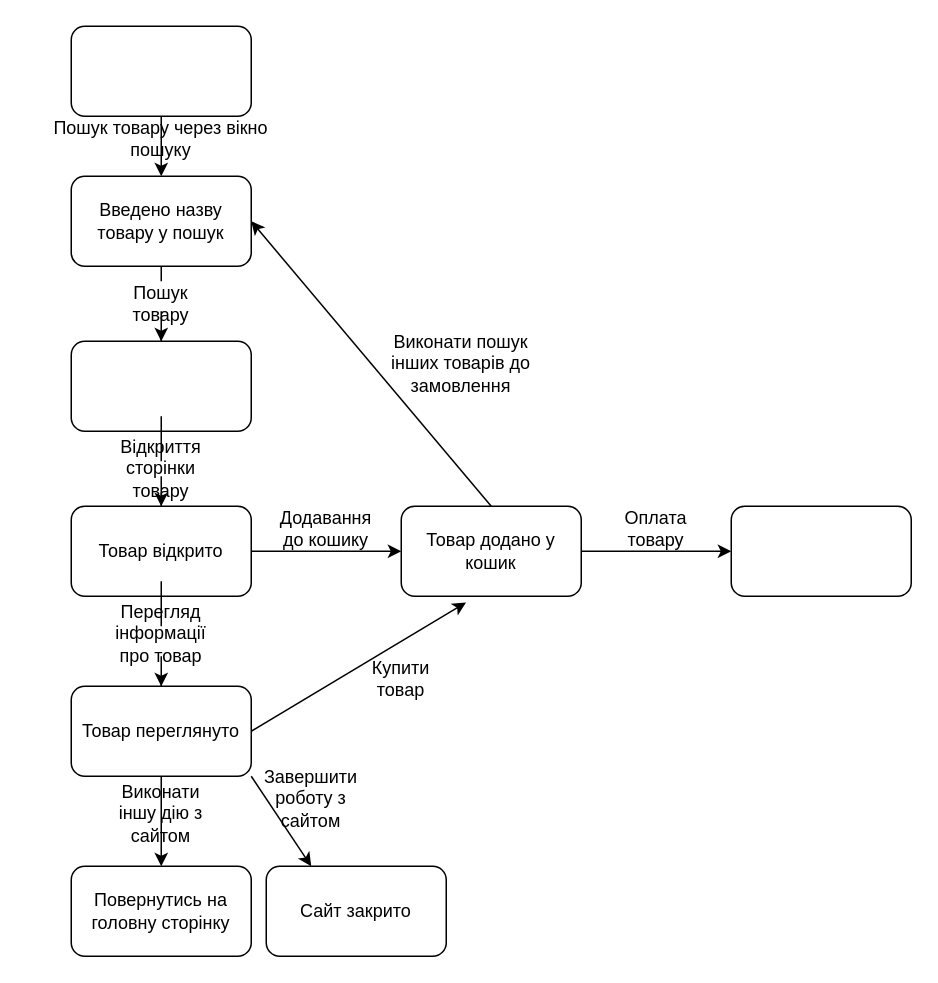
Some shapes in this 938 by 983 pixel diagram are drawn without their labels. Here are the shapes that lost their labels. From the top down, the centre of each, then its label:
At pixel 160 70: "Відкрито головну сторінку сайту".
At pixel 160 385: "Товар знайдено".
At pixel 820 550: "Товар оплачено".
